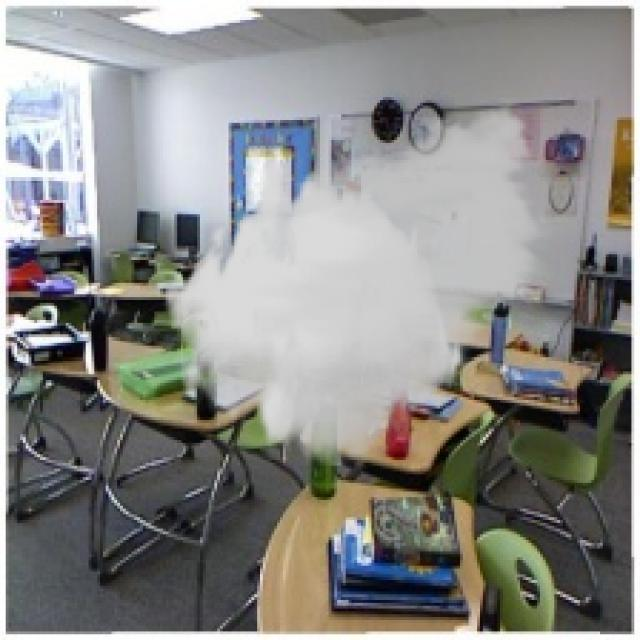Smoke: (162, 91, 554, 466)
